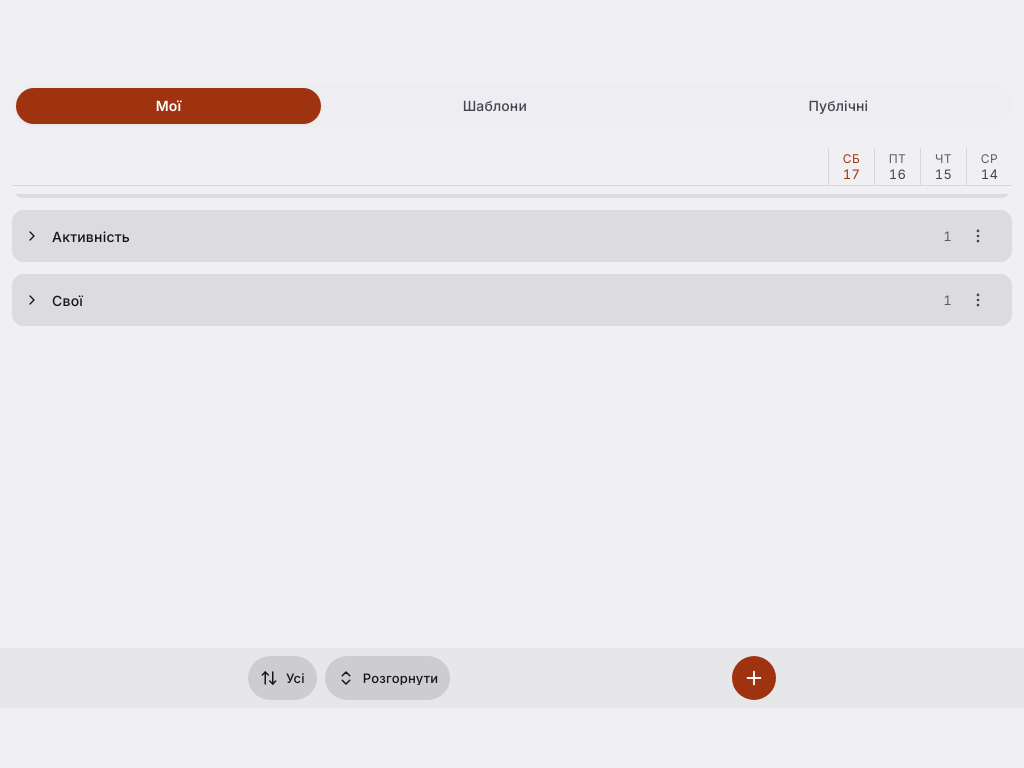
it: пріоритет › кнопка в смузі дій каже вибране й відкриває сітку з рахунком
What coordinates should you click on to do the following:
click the button "Усі"
I would click on:
 (282, 678)
Its box is [248,656,317,700].
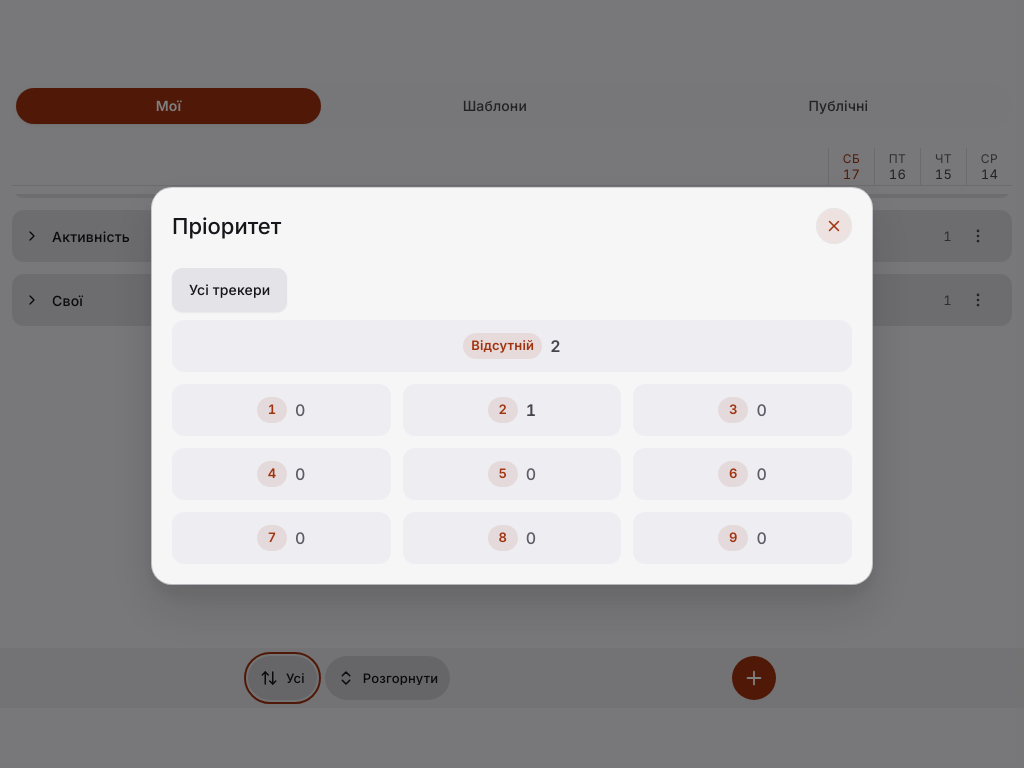
Check: the button with aria-label "Відсутній: трекерів 2" is shown, box [172,320,852,372]
Check: the button named "2: трекерів 1" is shown
What coordinates should you click on to do the following:
click the button named "2: трекерів 1"
I would click on:
 (512, 410)
Its box is [403,384,621,436].
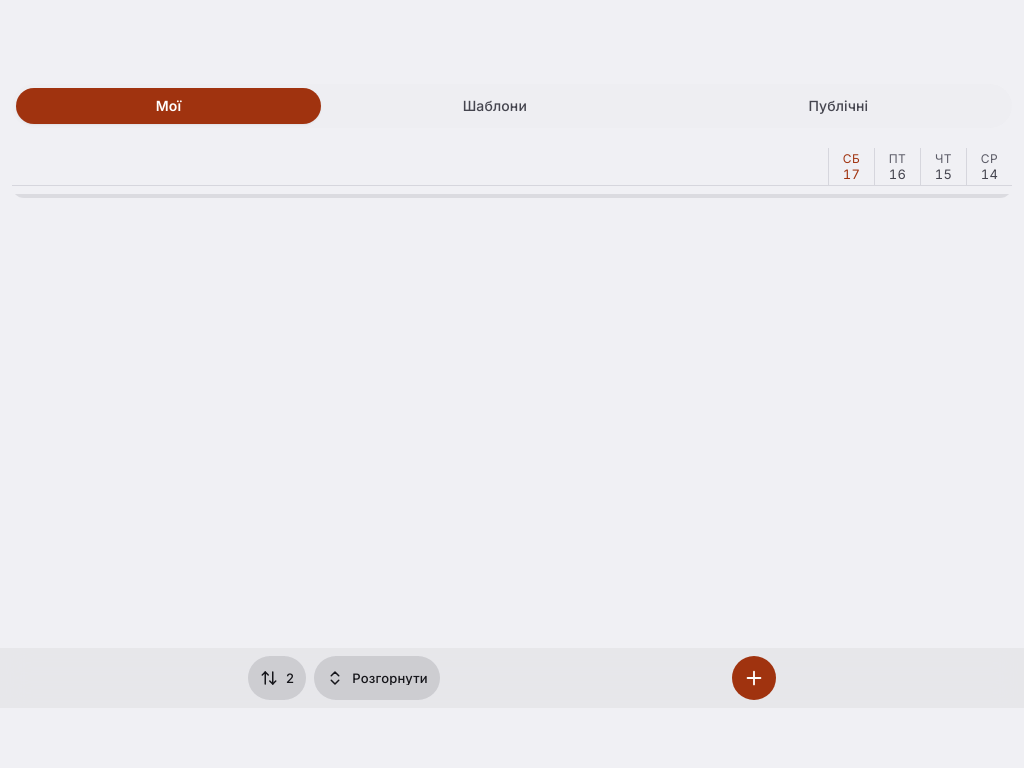
Check: the heading "Пріоритет" is gone
Check: the button "2" is shown, box [248,656,306,700]
